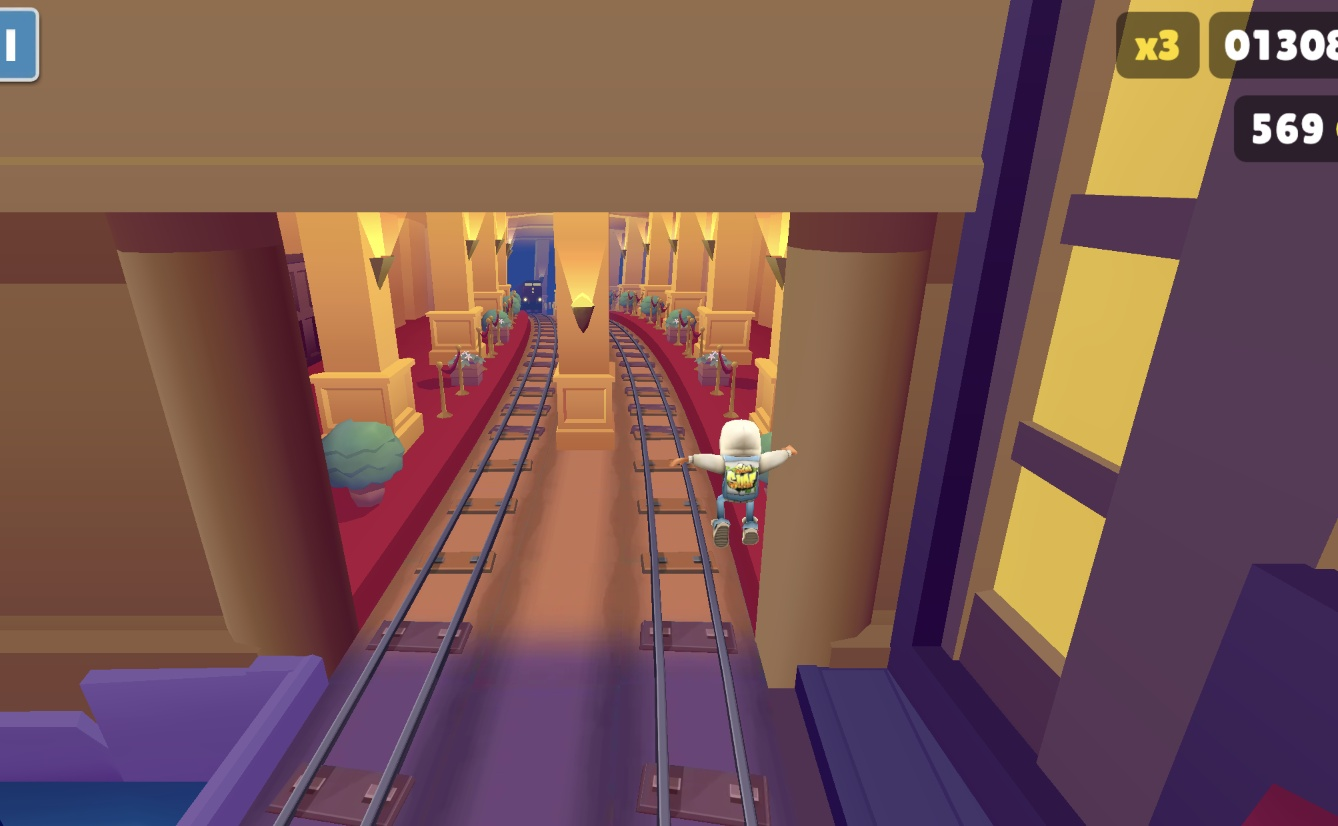pillar: (552, 210, 619, 442)
